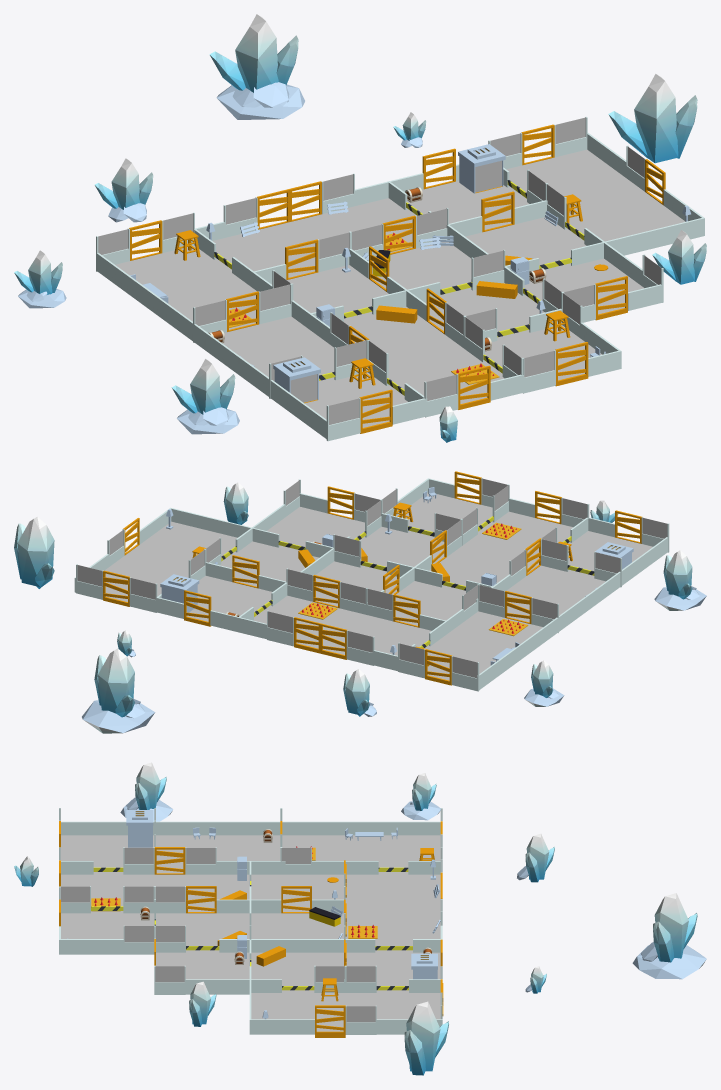
The model's file is Map3.fbx.
3 views of the same model, one above another, from view 1: azimuth 30°, elevation 25°; view 2: azimuth 150°, elevation 25°; view 3: azimuth 270°, elevation 25° (orthographic). The views are drawn at different scales.
Parts seen in each view (by area): view 1: room_8, room_6, Room_12, Room_13, room_1, room_11, Room_4, room_10, room_3, Crystal_03_1, Room_2, Room_5 (+10 smaller); view 2: room_8, room_6, Room_12, Room_13, room_11, room_3, room_10, room_1, Room_4, Room_2, Crystal_03_1, Room_7 (+8 smaller); view 3: room_8, Room_12, room_6, Room_13, Room_4, Room_2, room_1, room_11, room_3, Room_7, Room_5, Crystal_03_1 (+8 smaller).
Part boxes in pixels (x1=…): room_8: x1=488, y1=116, x2=704, y2=255; room_6: x1=309, y1=290, x2=523, y2=417; Room_12: x1=194, y1=173, x2=414, y2=287; Room_13: x1=96, y1=212, x2=256, y2=340; room_1: x1=349, y1=208, x2=505, y2=302; room_11: x1=193, y1=283, x2=334, y2=396; Room_4: x1=464, y1=292, x2=621, y2=393; room_10: x1=269, y1=339, x2=426, y2=441; room_3: x1=505, y1=242, x2=663, y2=322; Crystal_03_1: x1=209, y1=14, x2=304, y2=119; Room_2: x1=406, y1=266, x2=563, y2=348; Room_5: x1=448, y1=183, x2=604, y2=271; room_8: x1=74, y1=507, x2=251, y2=612; room_6: x1=414, y1=497, x2=589, y2=593; Room_12: x1=239, y1=595, x2=447, y2=671; Room_13: x1=398, y1=611, x2=558, y2=691; room_11: x1=478, y1=565, x2=620, y2=632; room_3: x1=251, y1=479, x2=381, y2=557; room_10: x1=541, y1=517, x2=669, y2=587; room_1: x1=286, y1=534, x2=414, y2=614; Room_4: x1=381, y1=478, x2=509, y2=545; Room_2: x1=347, y1=499, x2=462, y2=573; Crystal_03_1: x1=82, y1=648, x2=155, y2=733; Room_7: x1=366, y1=581, x2=493, y2=633; room_8: x1=249, y1=965, x2=442, y2=1034; Room_12: x1=345, y1=859, x2=442, y2=952; room_6: x1=59, y1=847, x2=251, y2=912; Room_13: x1=282, y1=808, x2=442, y2=874; Room_4: x1=59, y1=886, x2=156, y2=954; Room_2: x1=154, y1=886, x2=249, y2=952; room_1: x1=249, y1=887, x2=345, y2=952; room_11: x1=156, y1=808, x2=282, y2=873; room_3: x1=154, y1=926, x2=251, y2=994; Room_7: x1=251, y1=847, x2=345, y2=911; Room_5: x1=251, y1=946, x2=345, y2=992; Crystal_03_1: x1=632, y1=893, x2=706, y2=979.
Size of what is drawn, in the model's own units: 67.11 by 8.93 by 72.33.
